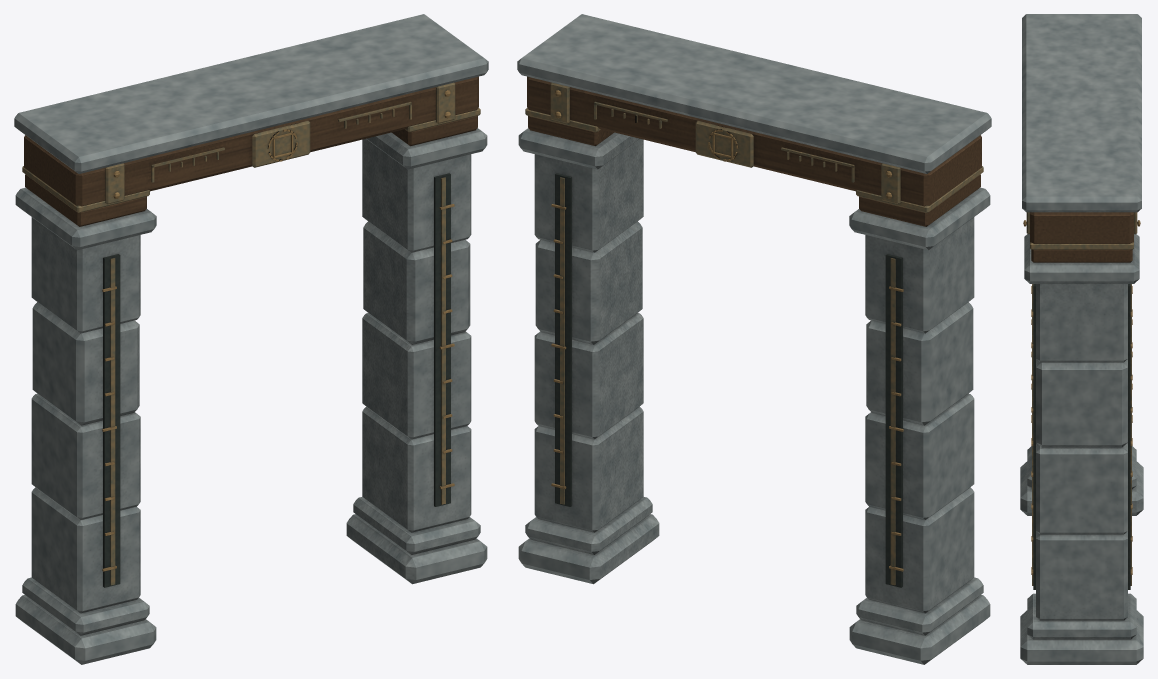
The model's file is PortalGate.fbx.
3 views of the same model, side by side, from view 1: azimuth 30°, elevation 25°; view 2: azimuth 150°, elevation 25°; view 3: azimuth 270°, elevation 25° (orthographic). The views are drawn at different scales.
Visible parts, largest first — view 1: PortalGate_Mesh; view 2: PortalGate_Mesh; view 3: PortalGate_Mesh.
Part boxes in pixels (x1=…): PortalGate_Mesh: x1=14, y1=14, x2=488, y2=664; PortalGate_Mesh: x1=517, y1=14, x2=991, y2=664; PortalGate_Mesh: x1=1020, y1=14, x2=1143, y2=664.
Size of the model in its own units: 2.8 by 3.28 by 0.78.
